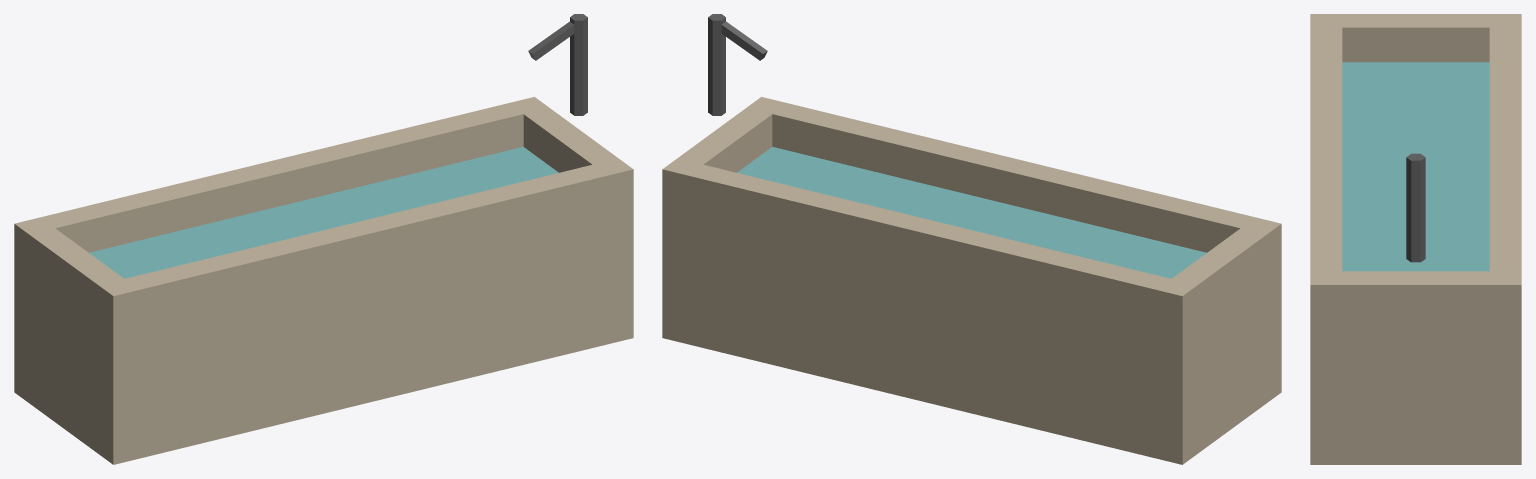
Rendered from SM_BM_BE_Trough.glb.
3 renders of one model, left to right at view 1: azimuth 30°, elevation 25°; view 2: azimuth 150°, elevation 25°; view 3: azimuth 270°, elevation 25°, orthographic. The views are drawn at different scales.
Visible parts, largest first — view 1: SM_BM_BE_Trough; view 2: SM_BM_BE_Trough; view 3: SM_BM_BE_Trough.
Part boxes in pixels (x1,y1,x2,y2): SM_BM_BE_Trough: (14, 14, 633, 464); SM_BM_BE_Trough: (662, 14, 1281, 464); SM_BM_BE_Trough: (1310, 14, 1521, 464).
Size of the model in its own units: 2.01 by 1.05 by 0.66.
